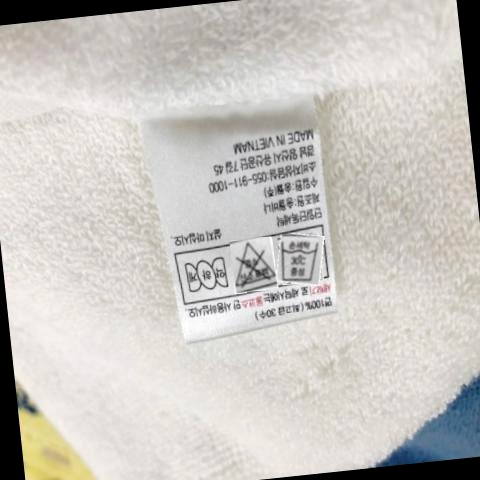DN_bleach: (233, 243, 280, 290)
hand_wash: (280, 236, 328, 282)
wring: (177, 253, 232, 295)
